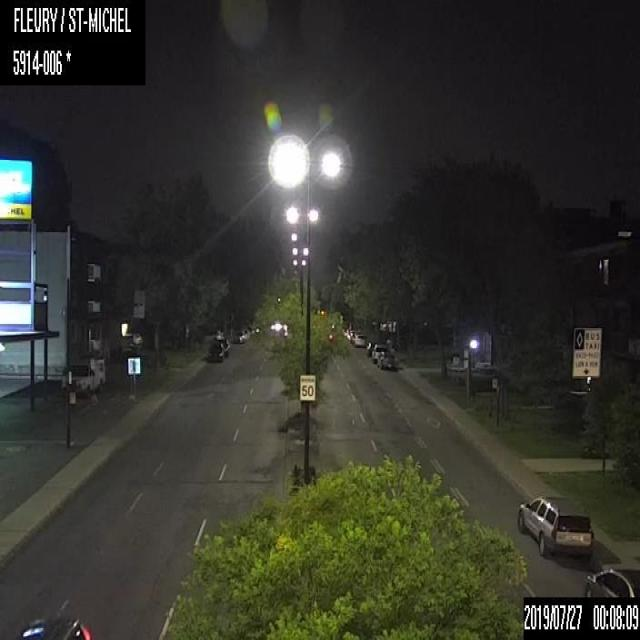vehicle: (514, 491, 596, 558), (16, 612, 94, 639), (61, 354, 107, 396), (582, 564, 639, 596), (377, 349, 398, 372), (207, 339, 223, 362), (369, 342, 388, 361), (350, 331, 368, 349), (228, 328, 247, 345), (216, 336, 229, 357)
